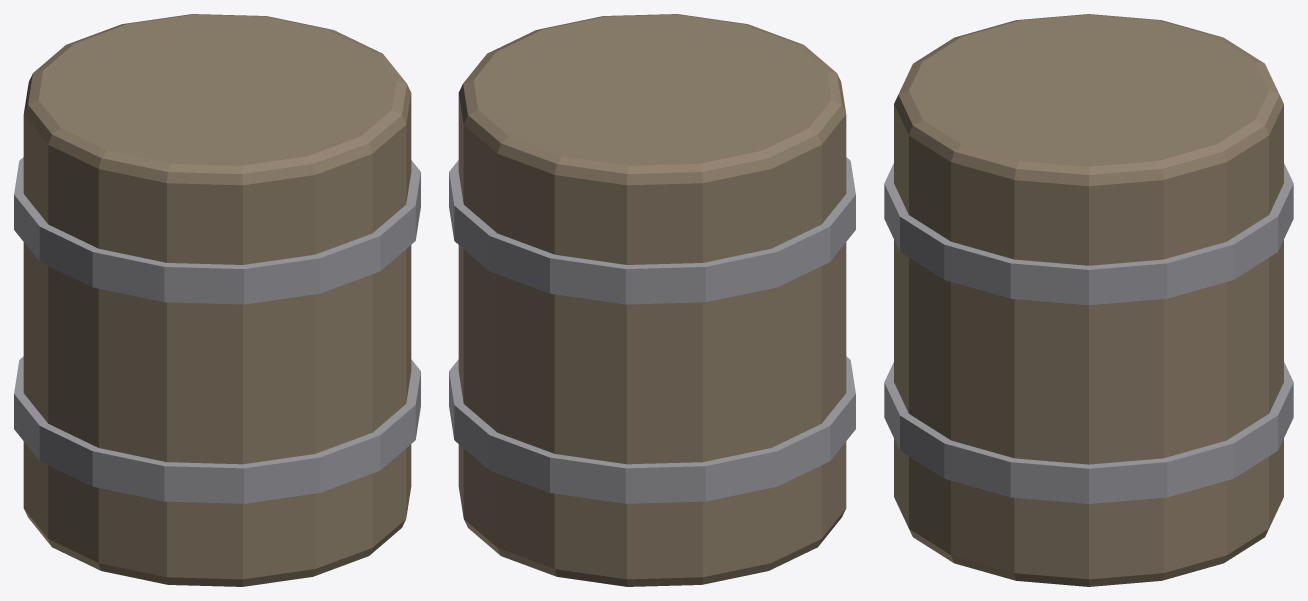
File: barrel.glb
The picture shows the model from 3 angles, left to right: view 1: azimuth 30°, elevation 25°; view 2: azimuth 150°, elevation 25°; view 3: azimuth 270°, elevation 25°; orthographic projection.
Parts seen in each view (by area): view 1: barrel, band1, band2; view 2: barrel, band1, band2; view 3: barrel, band2, band1.
Part boxes in pixels (left/top/right/bottom): barrel: left=23, top=14, right=411, bottom=586; band1: left=14, top=356, right=420, bottom=503; band2: left=14, top=157, right=420, bottom=304; barrel: left=458, top=14, right=846, bottom=586; band1: left=449, top=356, right=855, bottom=503; band2: left=449, top=157, right=855, bottom=304; barrel: left=894, top=14, right=1283, bottom=586; band2: left=884, top=163, right=1293, bottom=305; band1: left=884, top=362, right=1293, bottom=503.
Size of the model in its own units: 0.84 by 0.95 by 0.84.
